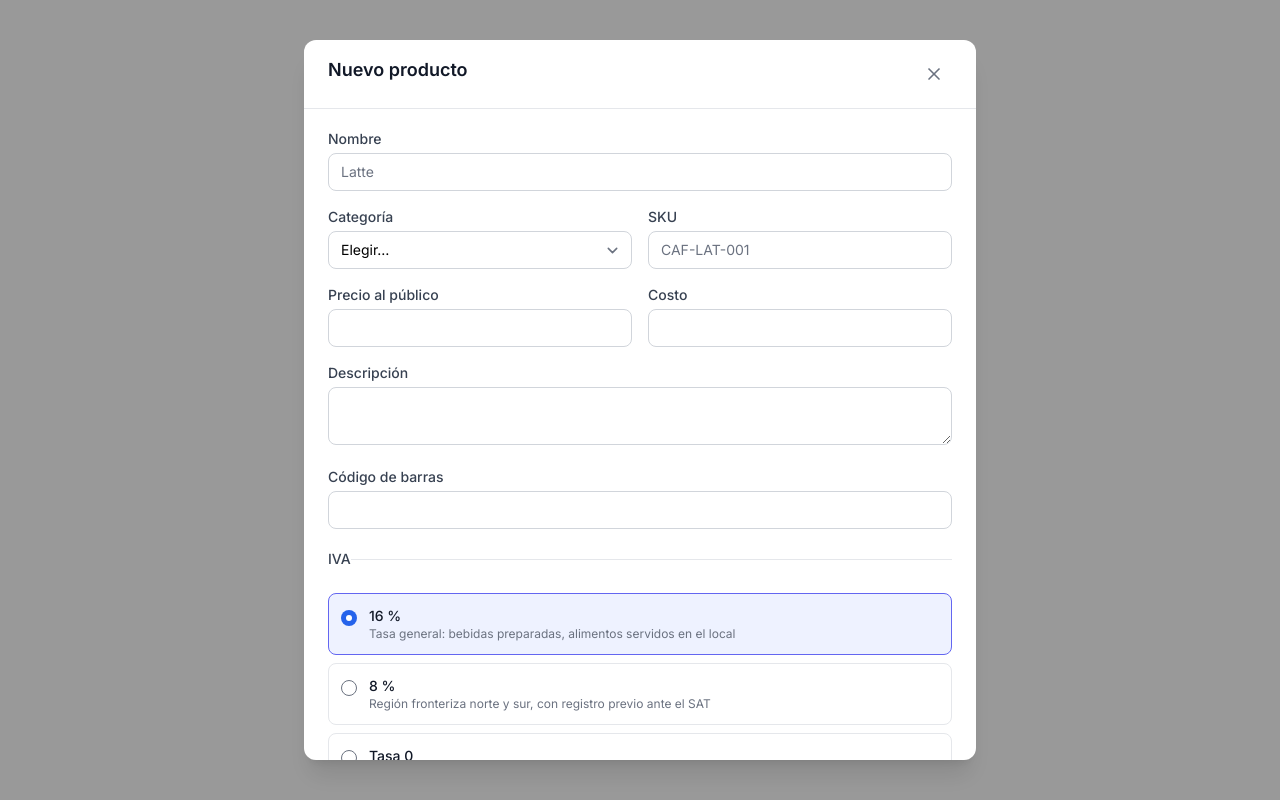
Test: ProductoModal › alta › enseña el mensaje del backend cuando rechaza
In the field labelled "Nombre": (640, 172) [328,153,952,191], type "Duplicado"
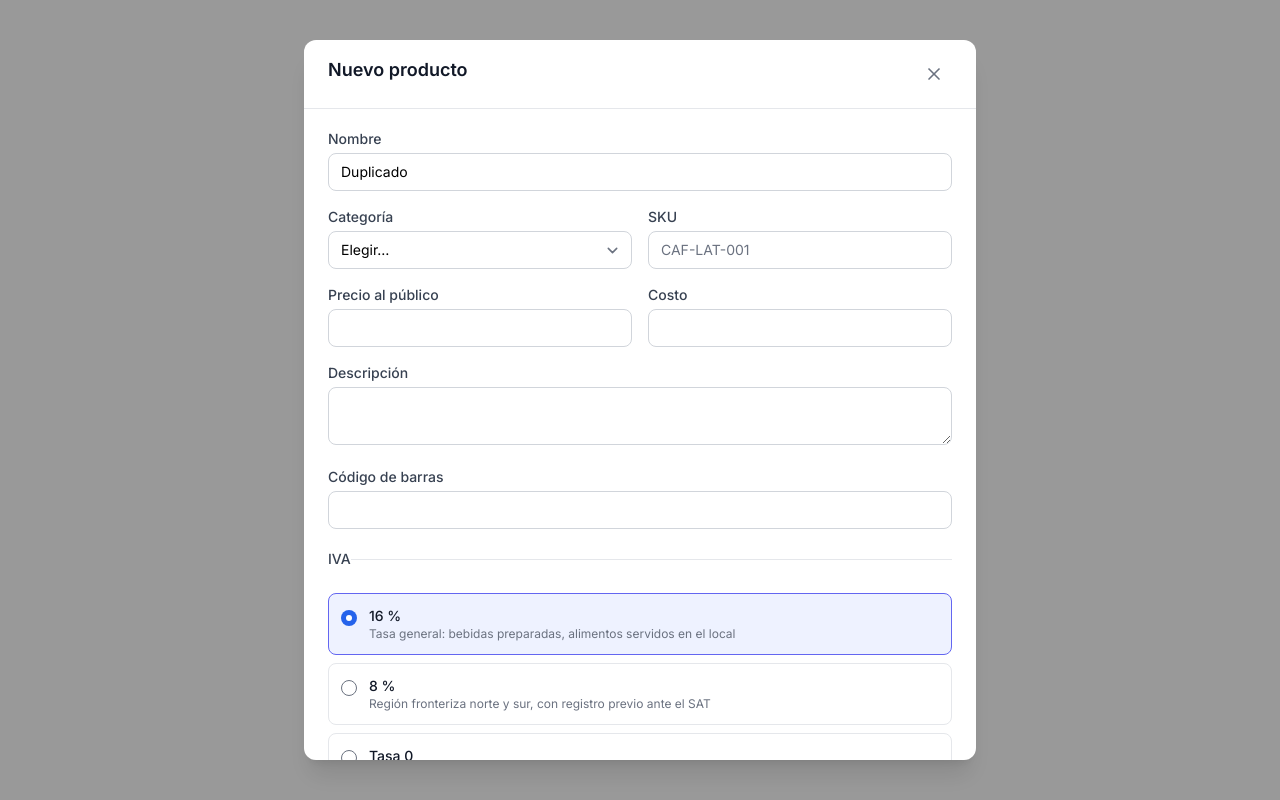
Select "Café Caliente" in the dropdown labelled "Categoría": (480, 250) [328,231,632,269]
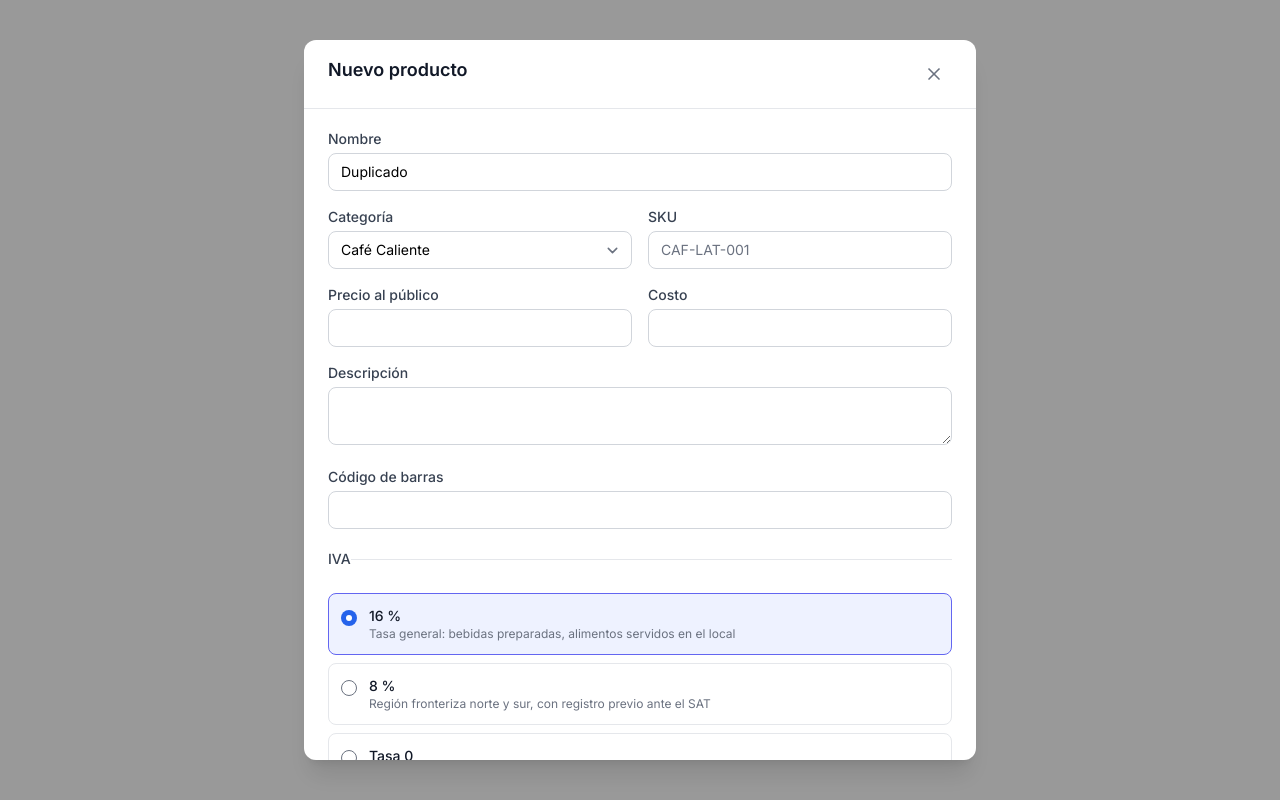
In the number field labelled "Precio al público": (480, 328) [328,309,632,347], type "10"
(page scrolled)
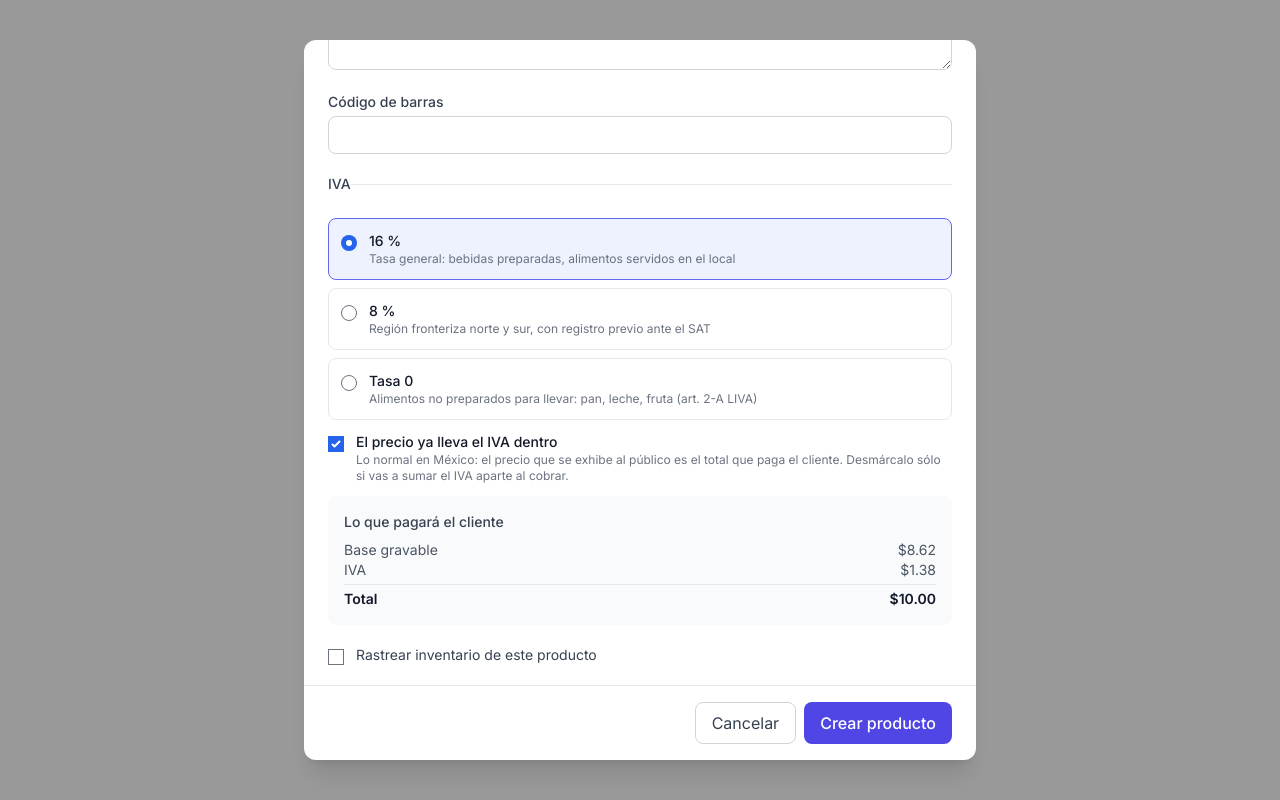
Click the button "Crear producto": (878, 723) [804,702,952,744]
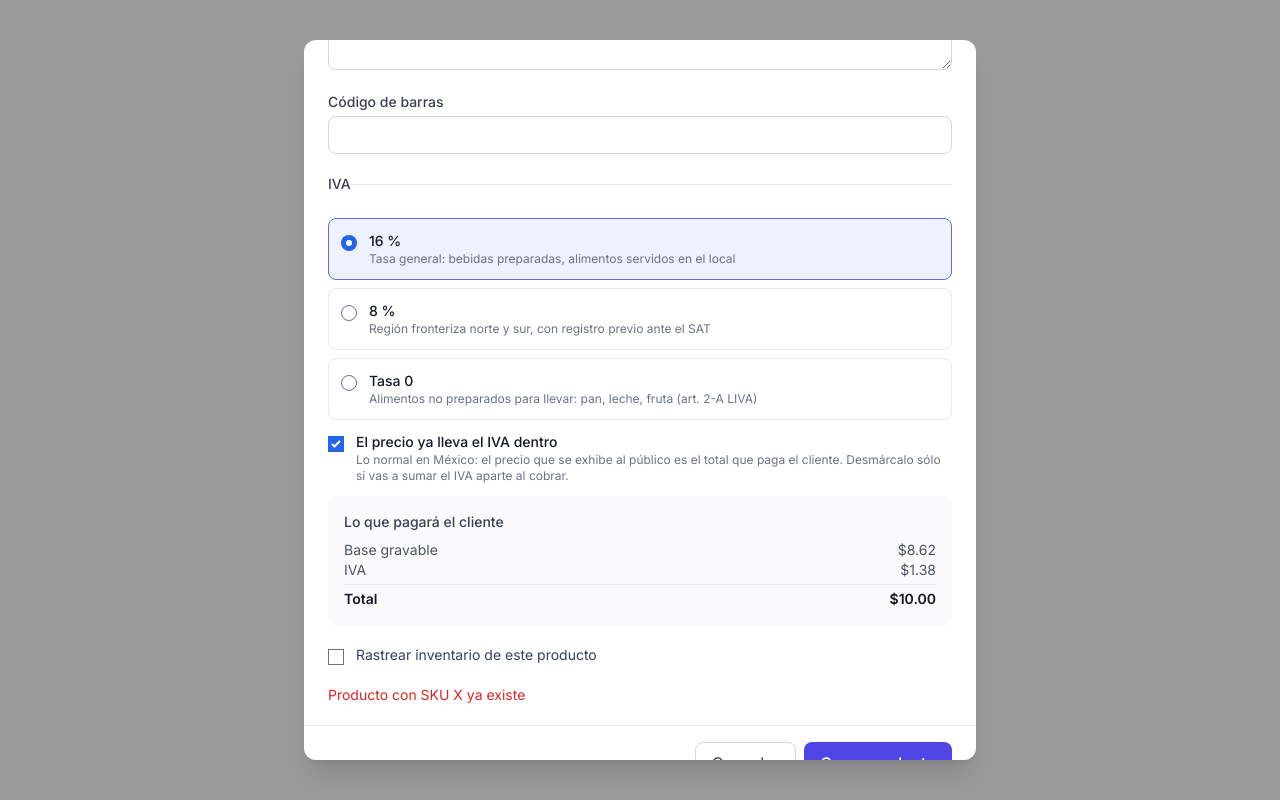
Expected: the message shows "ya existe", [328,686,525,703]
